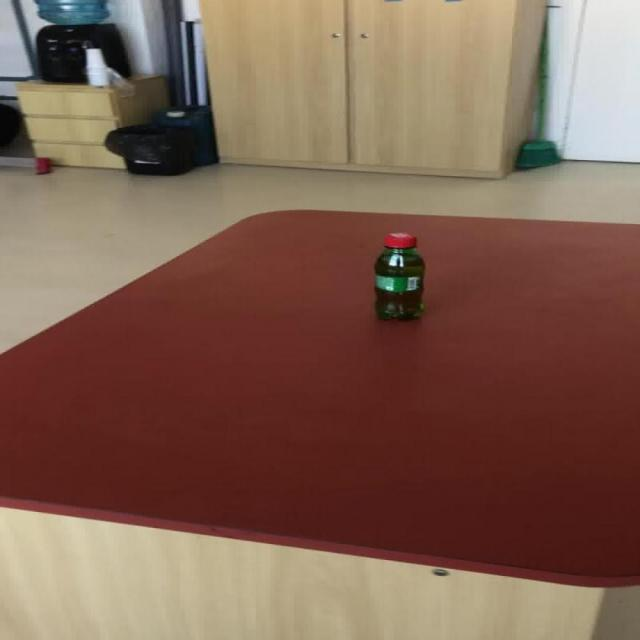Guarana: (372, 231, 425, 321)
